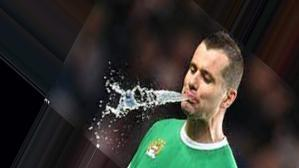spitting: (28, 1, 267, 168)
